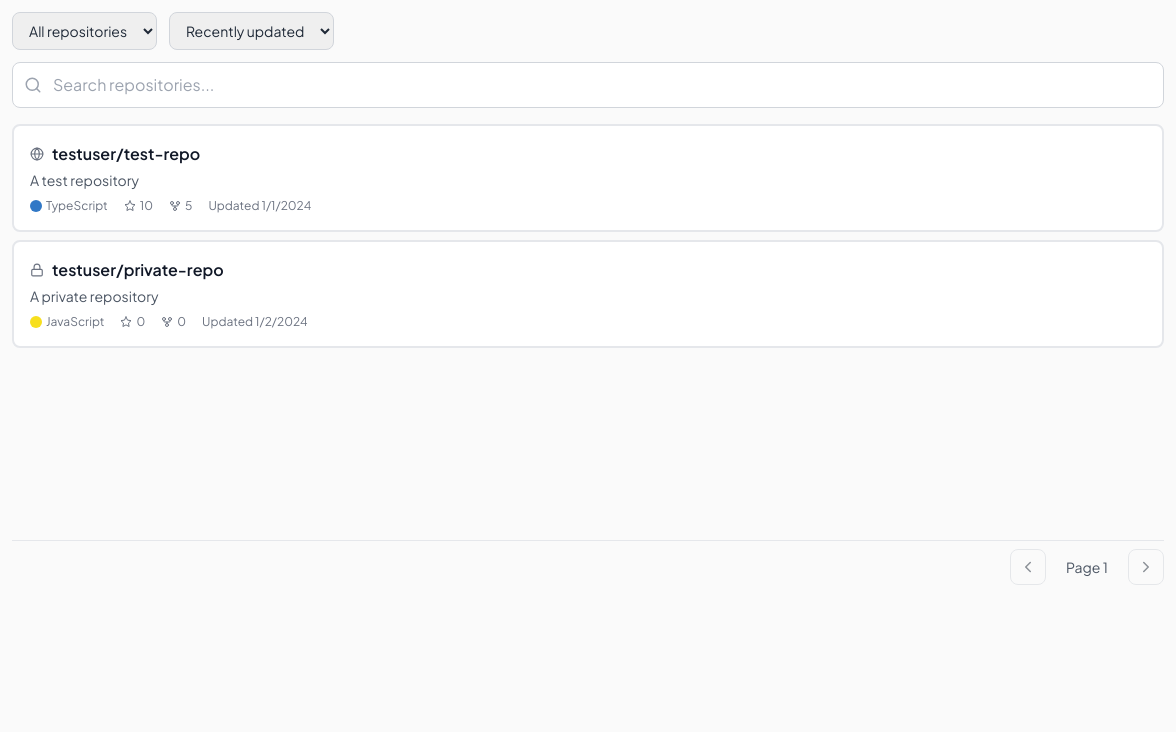
Test: GitHubRepoSelector › search functionality › should filter repositories by search query
In the field with placeholder "Search repositories...": (588, 85) x1=12 y1=62 x2=1164 y2=108, type "private"
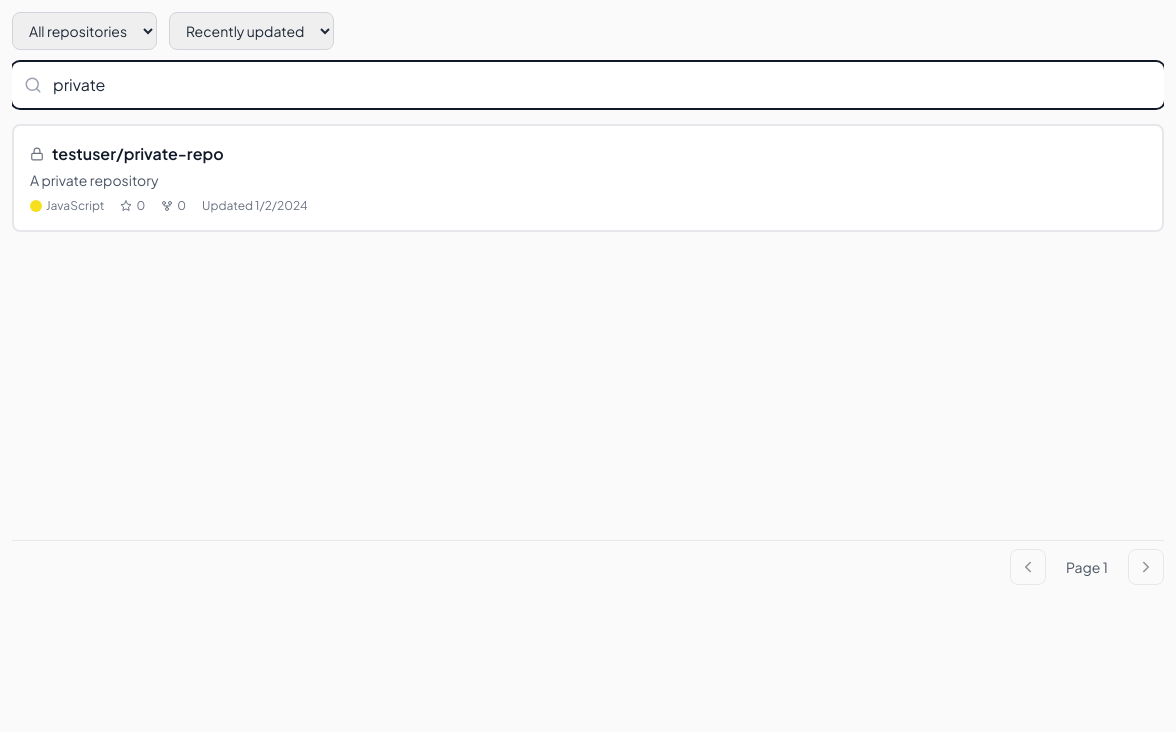
Expected: the heading "testuser/private-repo" is shown, x1=52 y1=142 x2=224 y2=166
Expected: the button "testuser/test-repo" is gone
